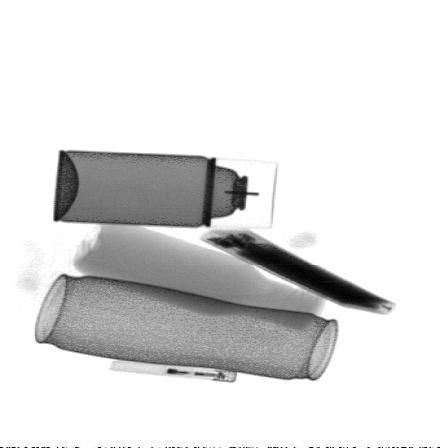Lighter: (110, 349, 236, 383)
Powerbank: (203, 230, 395, 314)
Sprayer: (54, 153, 277, 229)
